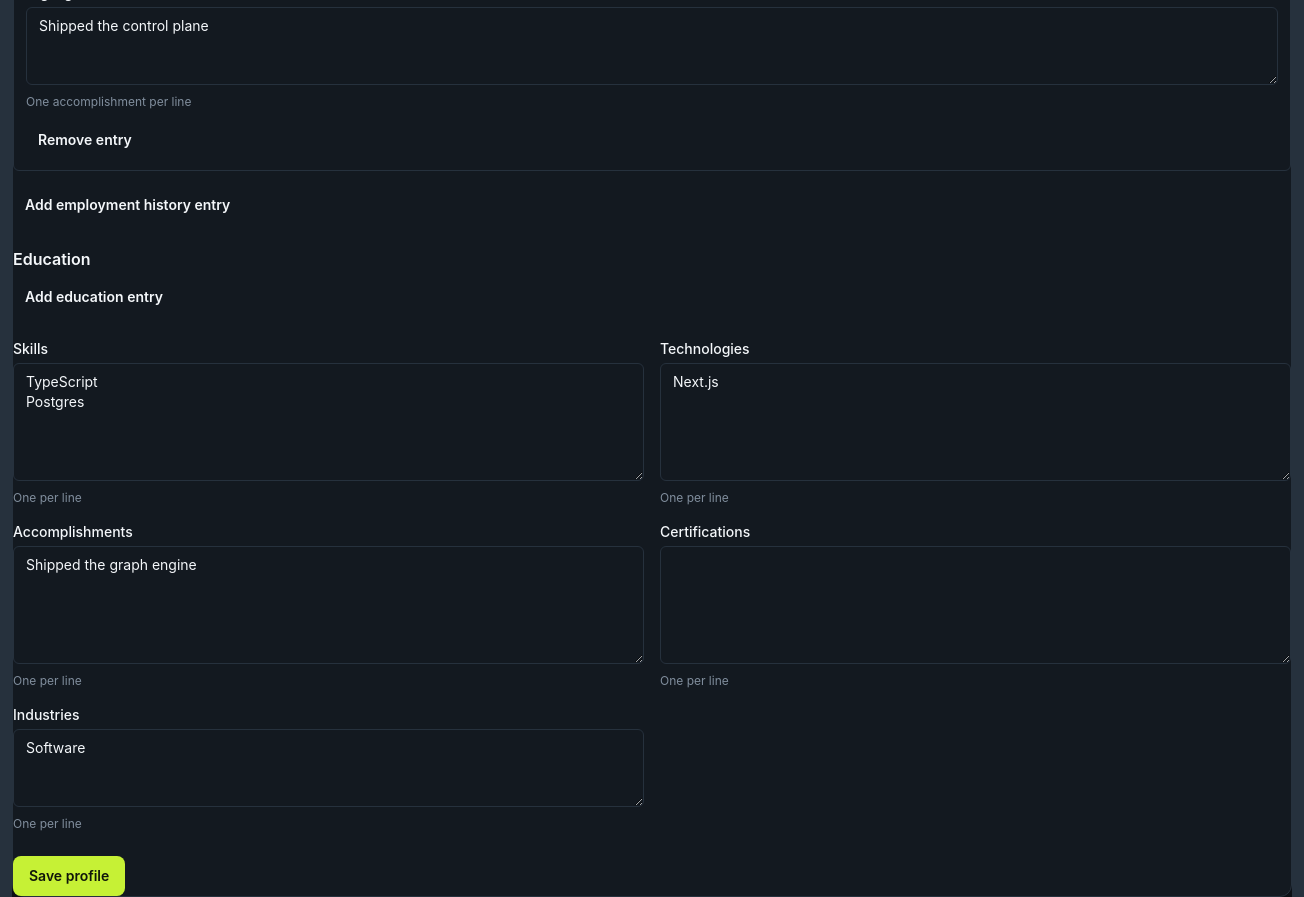
Test: JobSeekerConsole › saves the profile and confirms it
(page scrolled)
Click the button "Save profile" at (69, 876), box [13,856,125,896]
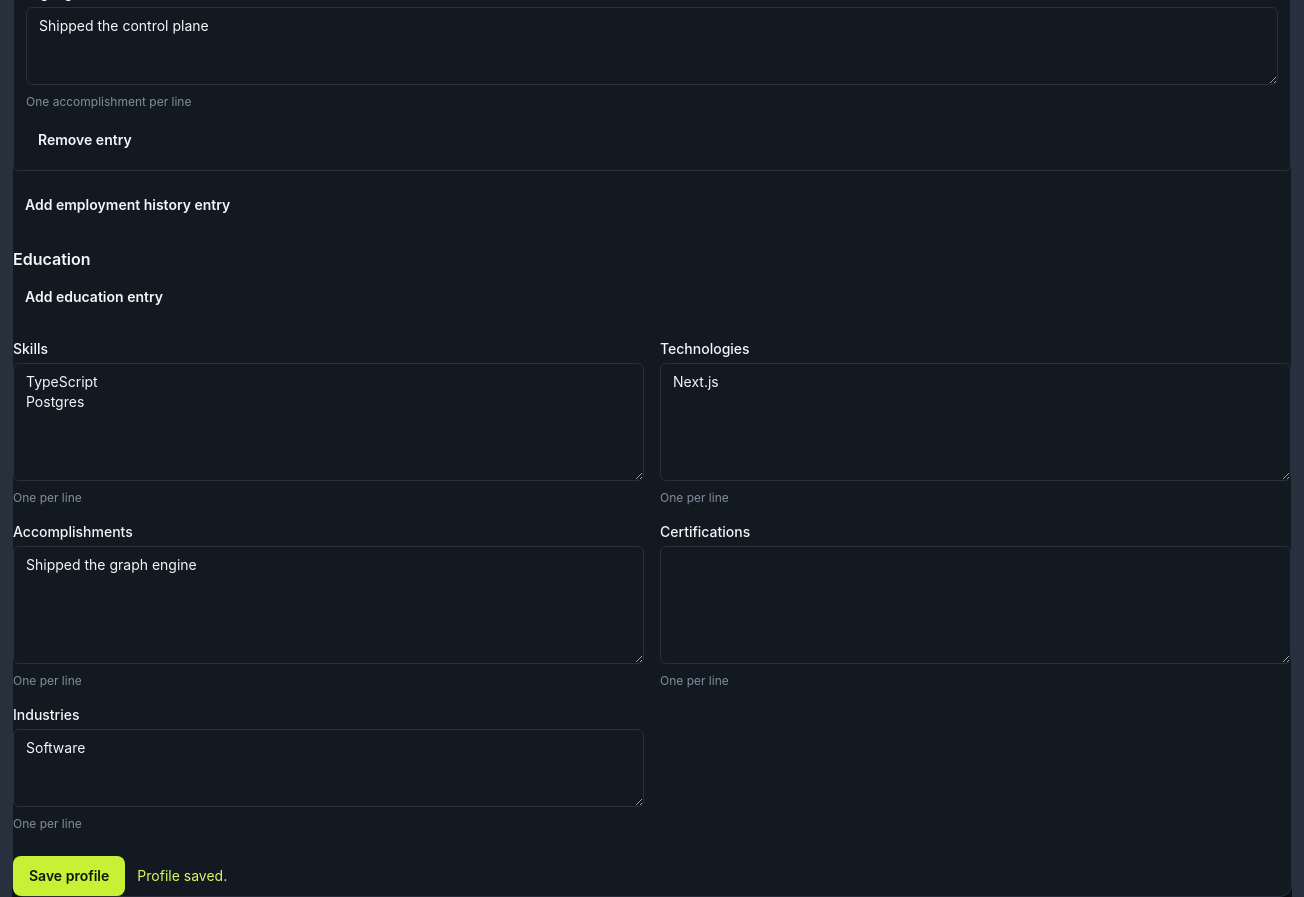
Now the message reads "Profile saved.", box [137,867,227,884]
